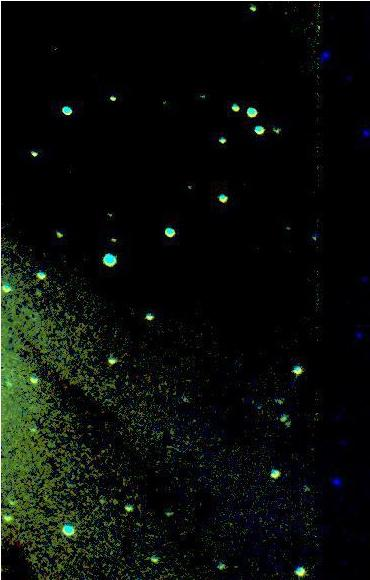star: (98, 484, 128, 514)
